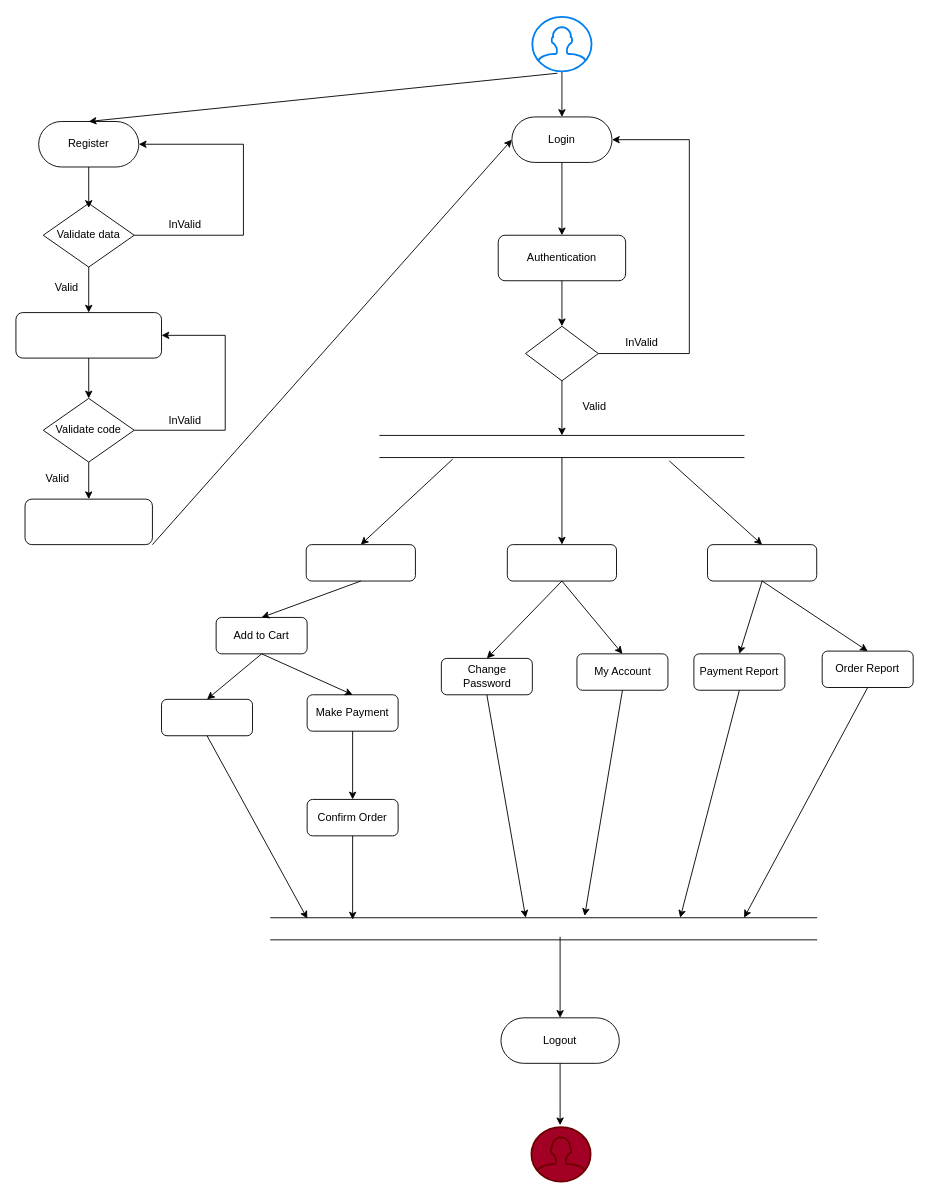
This 929x1198 diagram has some shape labels left out. Here are the shapes that lost their labels. From the top down, the centre of each, then its label:
At (x=88, y=335): "Send code to phone/email".
At (x=561, y=353): "Check".
At (x=88, y=521): "Activate account".
At (x=360, y=562): "Search Product".
At (x=561, y=562): "Edit Profile".
At (x=762, y=562): "View Reports".
At (x=207, y=717): "Cancel Order".
